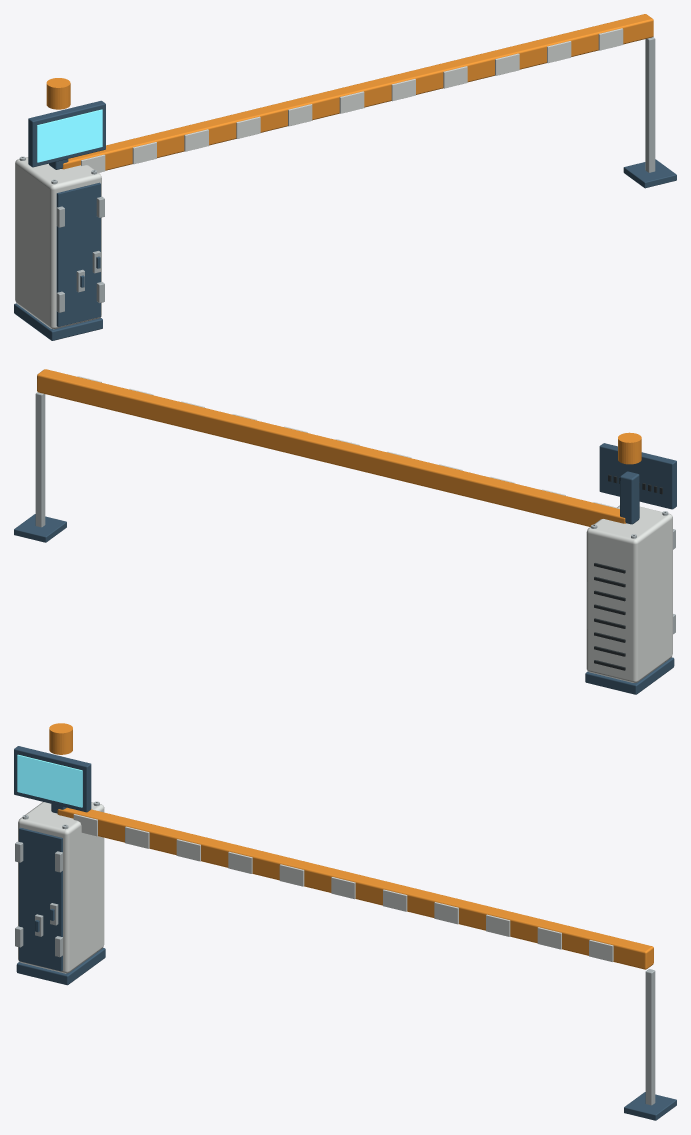
File: container-inspection-and-customs-yard-container-inspec-86499dea.glb
3 renders of one model, top to bottom at view 1: azimuth 30°, elevation 25°; view 2: azimuth 150°, elevation 25°; view 3: azimuth 330°, elevation 25°, orthographic.
Visible parts, largest first — view 1: container-inspection-and-customs-yard-exit-checkpoint-gate; view 2: container-inspection-and-customs-yard-exit-checkpoint-gate; view 3: container-inspection-and-customs-yard-exit-checkpoint-gate.
Boxes of the visible parts, box(x1,y1,x2,y2) form: container-inspection-and-customs-yard-exit-checkpoint-gate: box(14, 14, 676, 340); container-inspection-and-customs-yard-exit-checkpoint-gate: box(14, 369, 676, 694); container-inspection-and-customs-yard-exit-checkpoint-gate: box(14, 723, 676, 1120).
Size of the model in its own units: 4.36 by 1.54 by 0.535.
